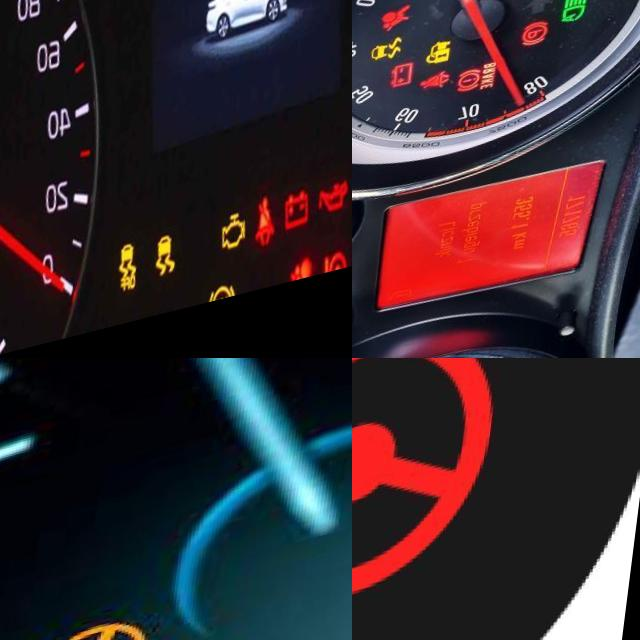Electronic Power Steering: (352, 358, 513, 640), (562, 0, 614, 19)
Seat Belt: (269, 214, 294, 267), (423, 84, 457, 109)
